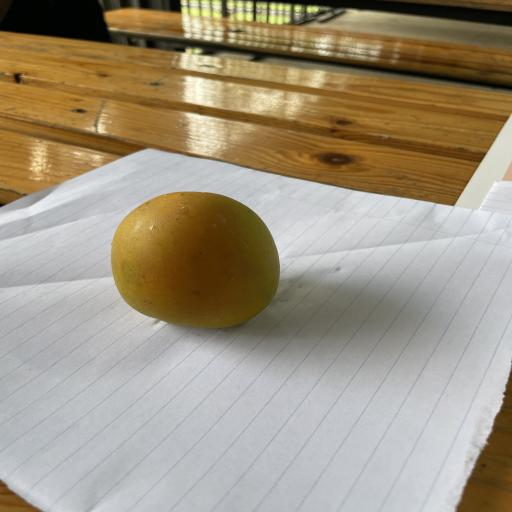unripe: (111, 191, 279, 328)
